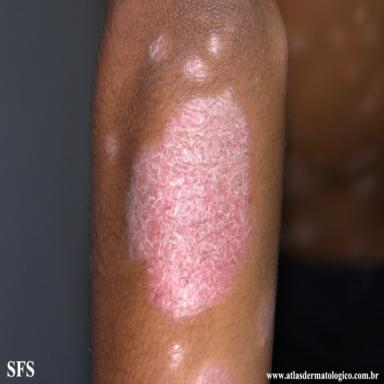Psoriasis: (127, 91, 251, 318), (257, 295, 275, 346), (194, 362, 232, 383), (184, 56, 207, 82), (167, 344, 185, 370), (149, 36, 167, 62), (104, 135, 117, 159), (209, 34, 221, 54)
